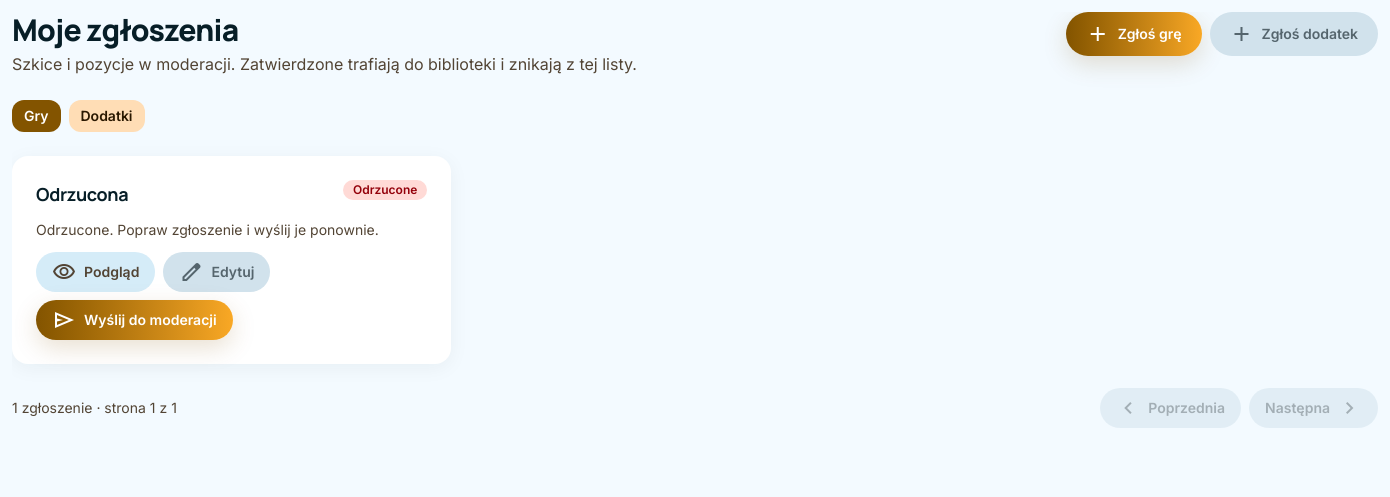
MySubmissionsPage › wyczerpany limit poprawek kieruje do moderatora i zostawia stan
The image size is (1390, 497).
Click the button "Wyślij do moderacji": (134, 320) x1=36 y1=300 x2=233 y2=340
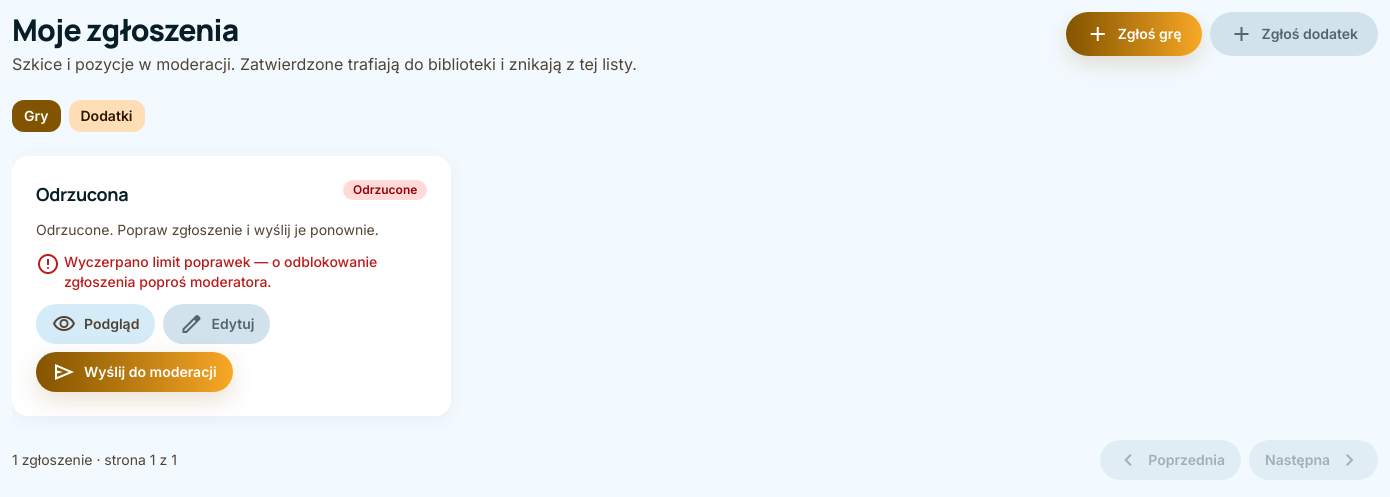
Check: the text "Odrzucone" is shown, box x1=343 y1=180 x2=427 y2=200
Check: the text "Wyczerpano limit poprawek — o odblokowanie zgłoszenia poproś moderatora." is shown, box x1=36 y1=252 x2=427 y2=292
